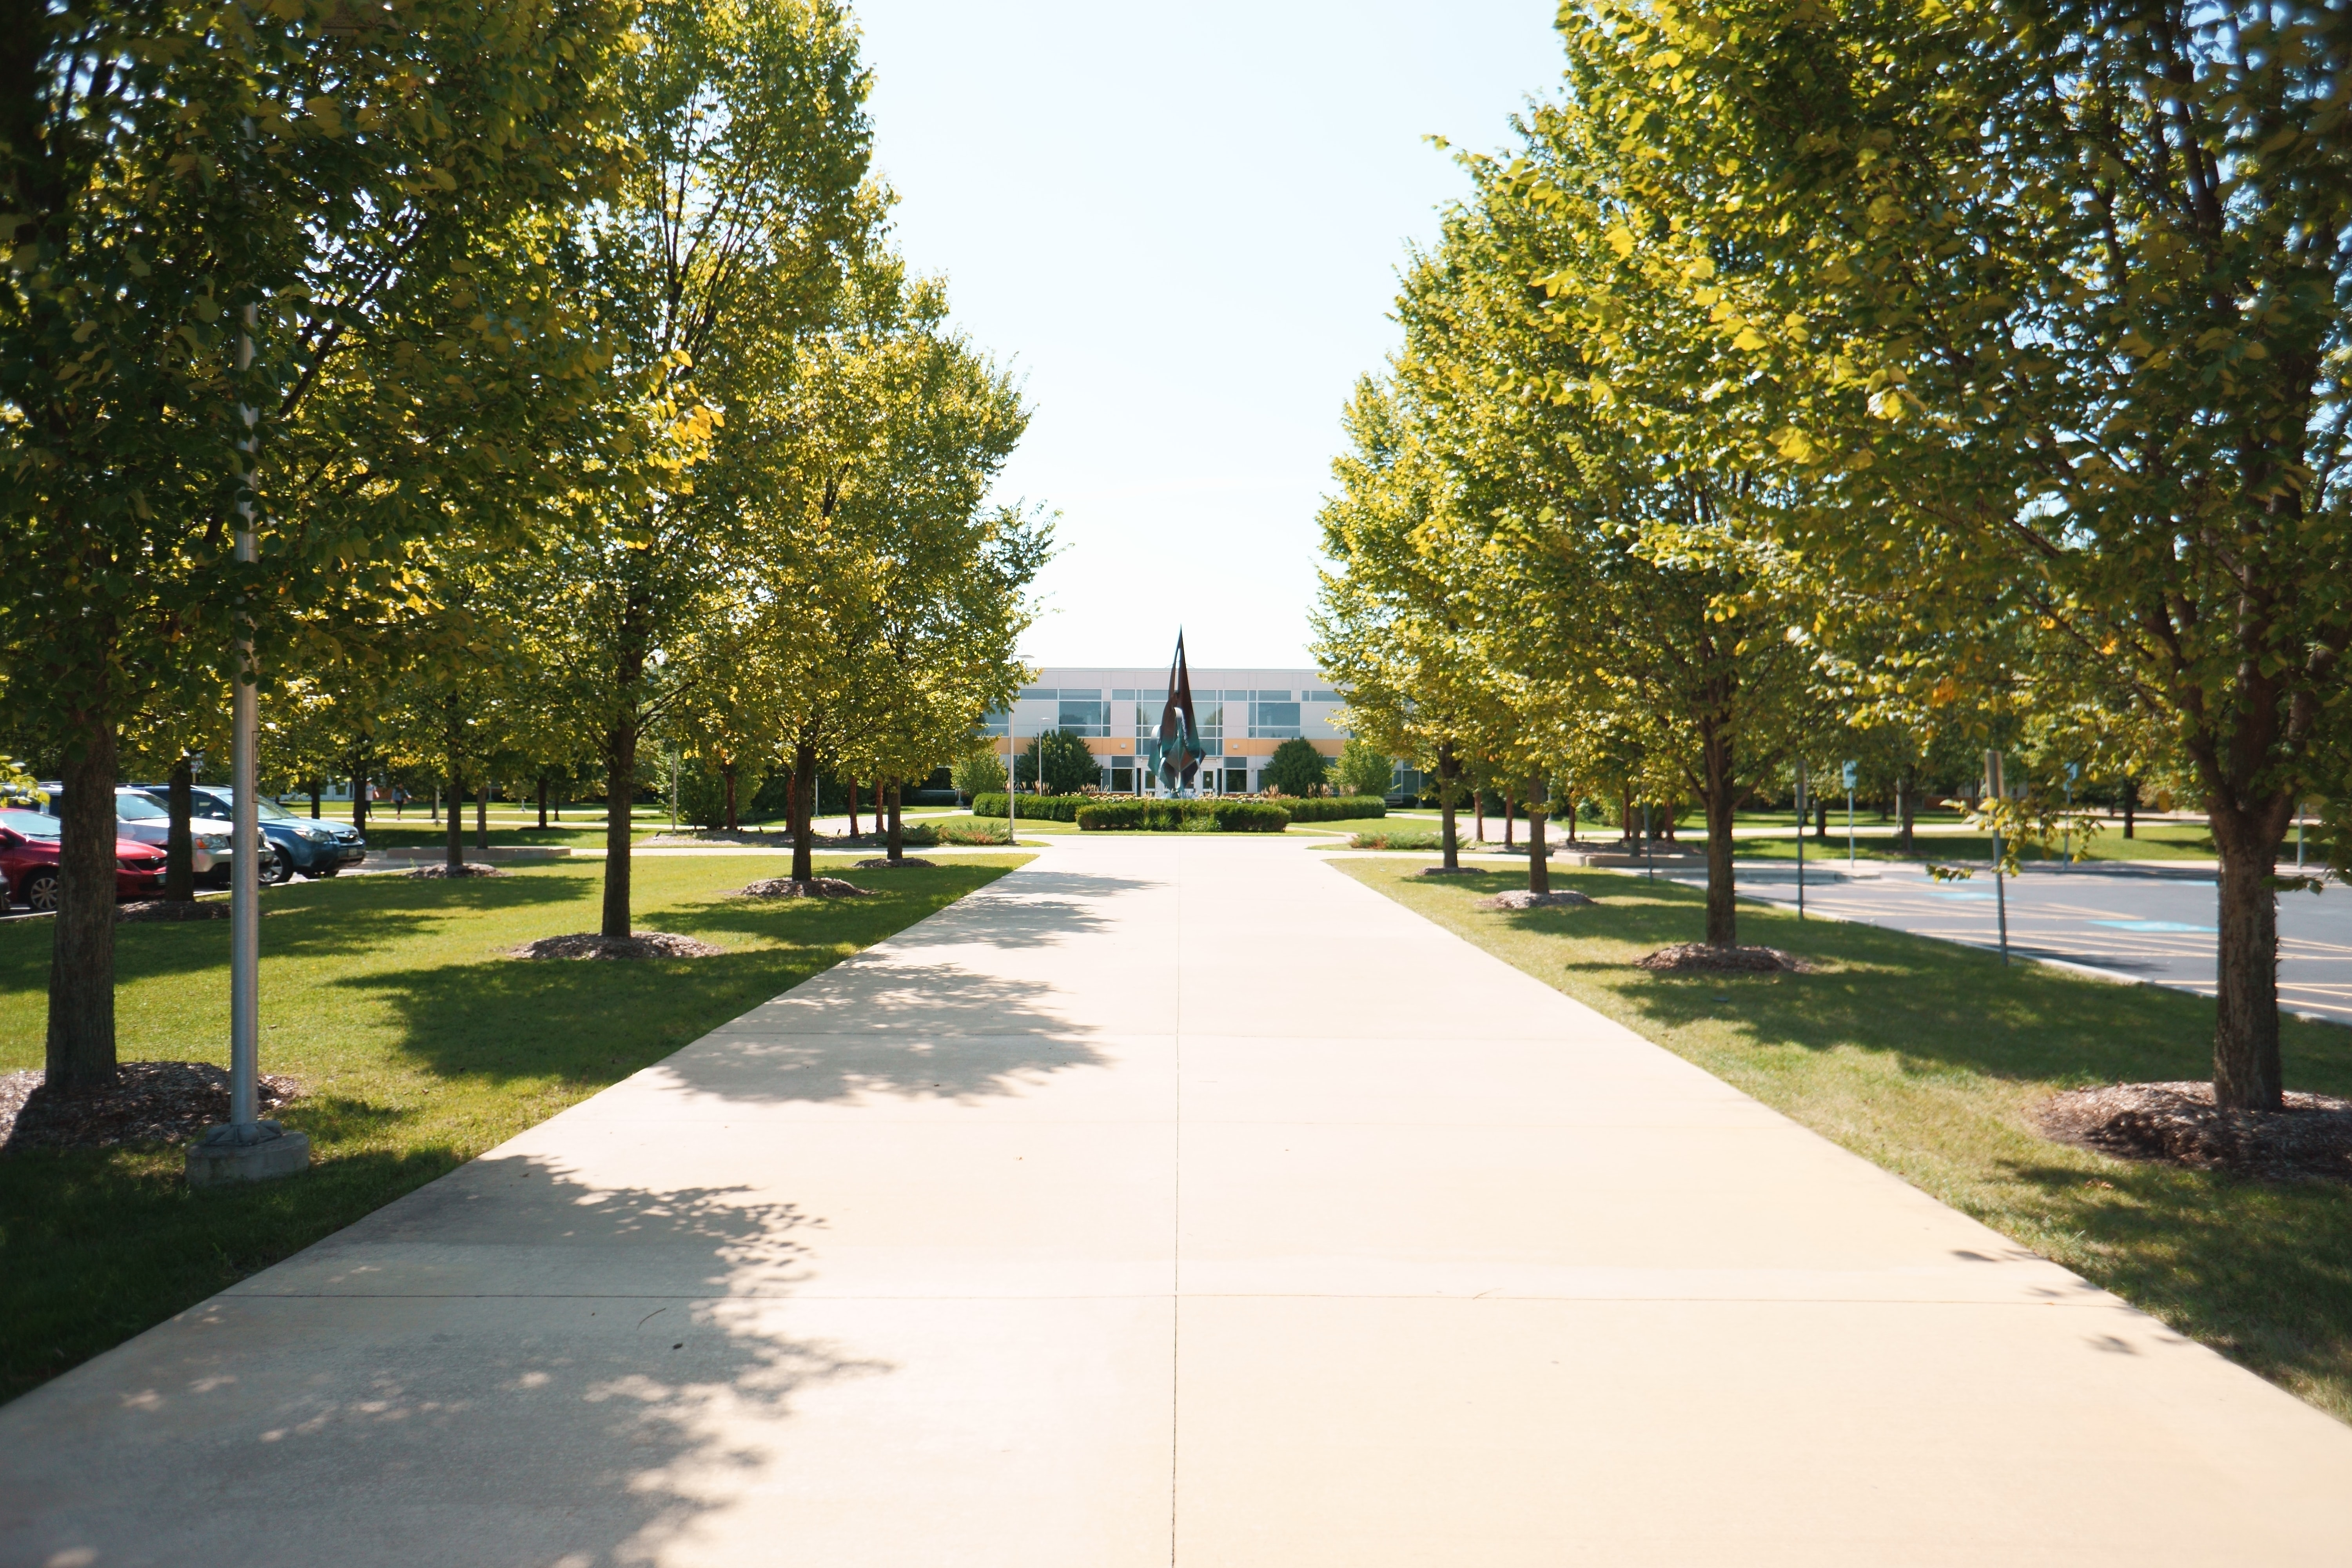tree: (1591, 0, 2352, 1097), (0, 0, 716, 1081), (327, 0, 906, 950)
